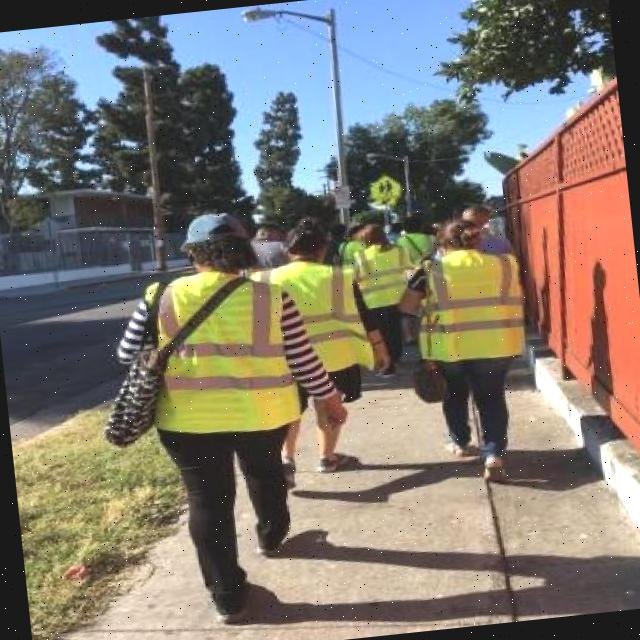vest: (133, 255, 330, 448), (410, 248, 538, 384), (353, 248, 429, 331)
